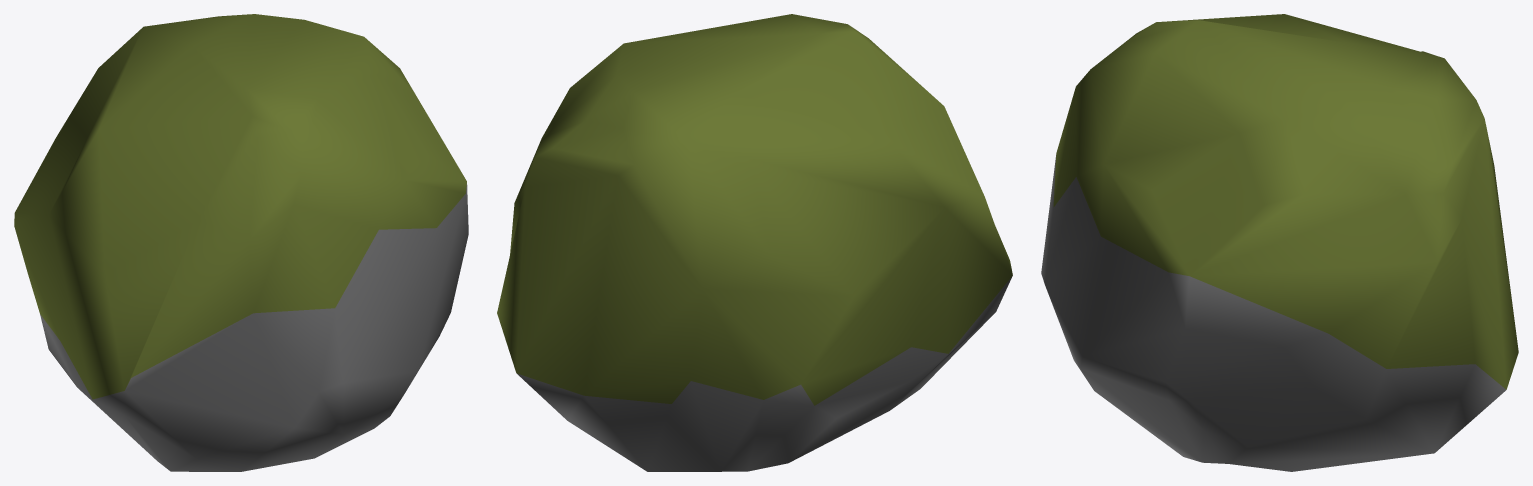
Rendered from Rock_1_mossy_2.fbx.
3 renders of one model, left to right at view 1: azimuth 30°, elevation 25°; view 2: azimuth 150°, elevation 25°; view 3: azimuth 270°, elevation 25°, orthographic. The views are drawn at different scales.
Parts seen in each view (by area): view 1: Rock_1_mossy_2; view 2: Rock_1_mossy_2; view 3: Rock_1_mossy_2.
Part boxes in pixels (bbox=[...]): Rock_1_mossy_2: bbox=[14, 14, 468, 471]; Rock_1_mossy_2: bbox=[497, 14, 1012, 471]; Rock_1_mossy_2: bbox=[1041, 14, 1518, 471].
Bounding box in the file's own units: 34.79 × 32.23 × 34.58.
Materials: 1 (1 with a texture image).
